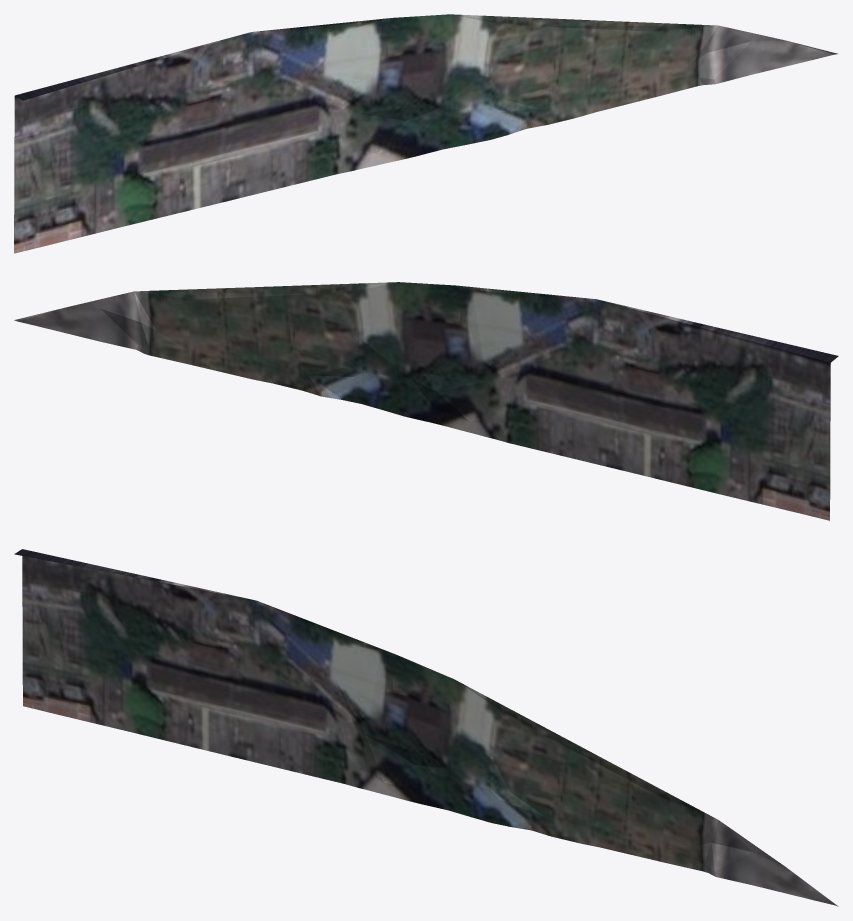
3 renders of one model, top to bottom at view 1: azimuth 30°, elevation 25°; view 2: azimuth 150°, elevation 25°; view 3: azimuth 330°, elevation 25°, orthographic.
Parts seen in each view (by area): view 1: 0_1_2_0_1_2; view 2: 0_1_2_0_1_2; view 3: 0_1_2_0_1_2.
Boxes of the visible parts, box(x1,y1,x2,y2) form: 0_1_2_0_1_2: box(14, 14, 837, 253); 0_1_2_0_1_2: box(14, 282, 838, 520); 0_1_2_0_1_2: box(14, 549, 838, 906).
Bounding box in the file's own units: 286 × 54.78 × 6.5.
Materials: 1 (1 with a texture image).
